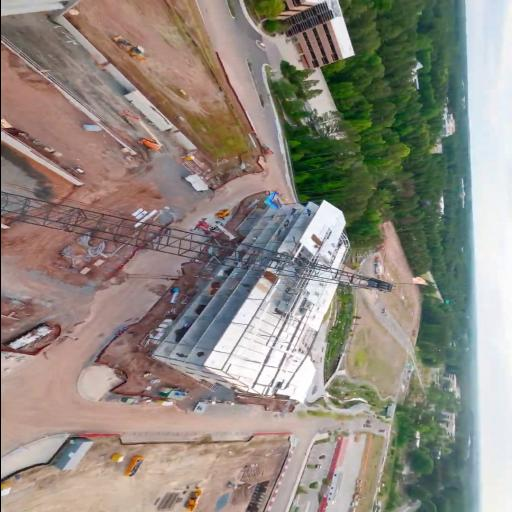uav: (255, 190, 285, 212)
